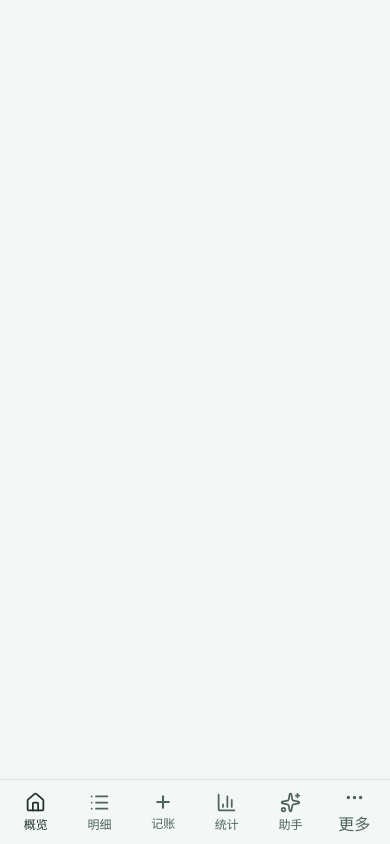
Test case: NavigationSidebar › shows primary mobile destinations and reveals secondary routes
Expected: the number of links is 5, x1=24 y1=792 x2=48 y2=832; x1=88 y1=792 x2=112 y2=832; x1=151 y1=792 x2=175 y2=831; x1=215 y1=792 x2=239 y2=832; x1=278 y1=792 x2=302 y2=832
Expected: the link "助手" is shown, x1=278 y1=792 x2=302 y2=832
Click the button "更多". click: click(354, 812)
box: x1=322 y1=780 x2=386 y2=843
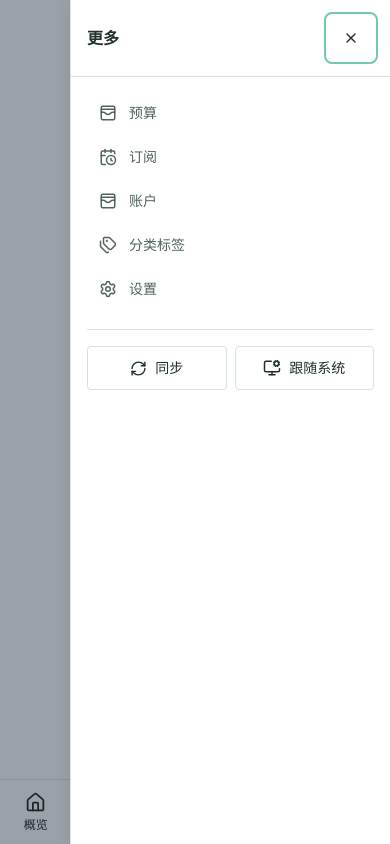
Expected: the dialog is shown
Expected: the number of links "助手" is 2
